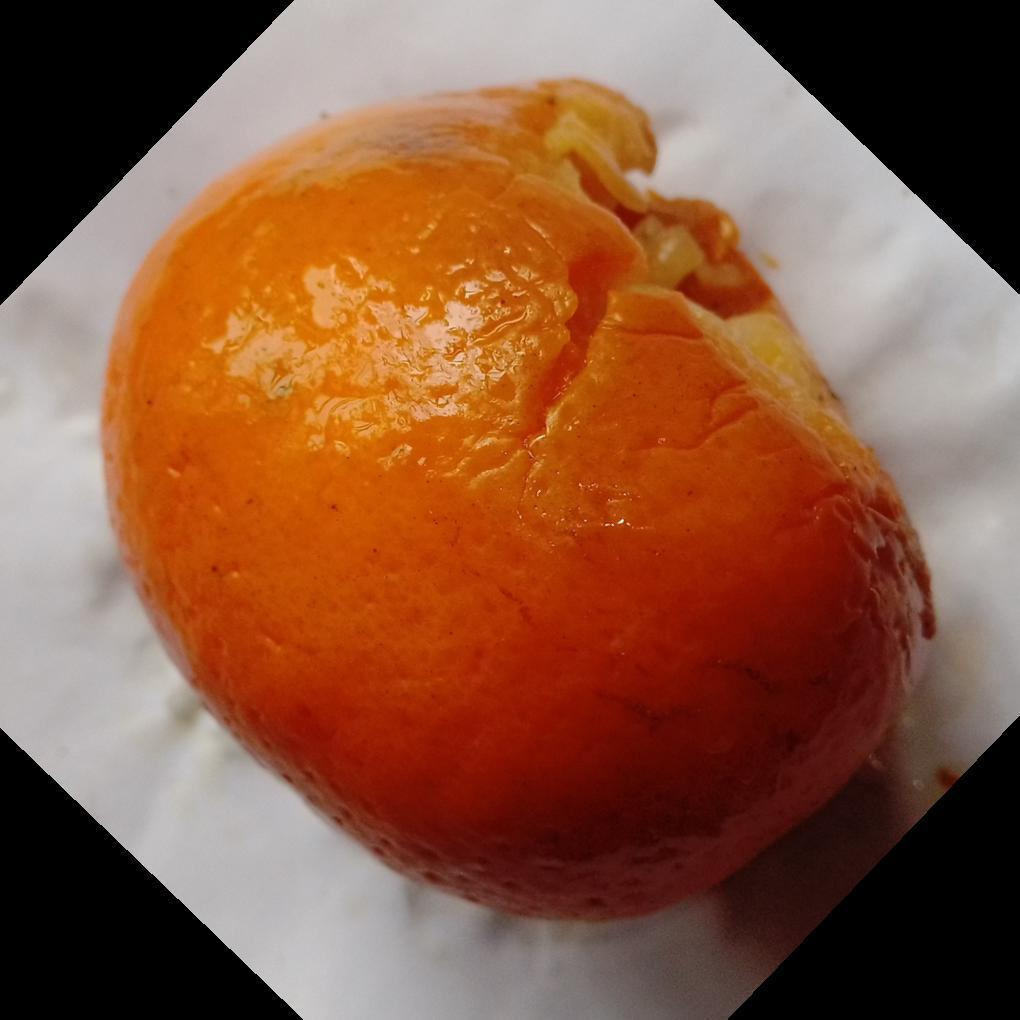FreshOrange: (96, 78, 938, 929)
